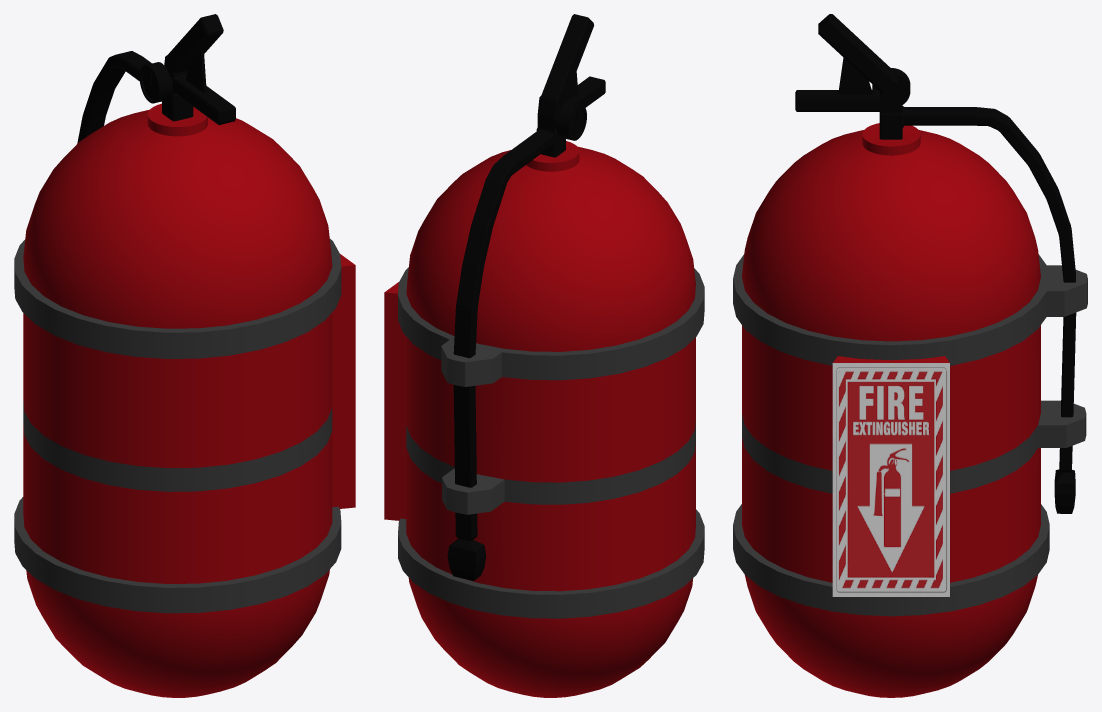
Rendered from FireExt.fbx.
3 views of the same model, side by side, from view 1: azimuth 30°, elevation 25°; view 2: azimuth 150°, elevation 25°; view 3: azimuth 270°, elevation 25° (orthographic). The views are drawn at different scales.
Parts seen in each view (by area): view 1: Cylinder, Sphere.001, Sphere, Cube, Cylinder.001; view 2: Cylinder, Sphere.001, Sphere, Cube, Cylinder.001; view 3: Cylinder, Sphere.001, Sphere, Cube.
Boxes of the visible parts, x1,y1,x2,y2 form: Cylinder: [14, 238, 355, 613]; Sphere.001: [23, 103, 332, 328]; Sphere: [26, 569, 329, 697]; Cube: [77, 14, 235, 143]; Cylinder.001: [139, 62, 171, 103]; Cylinder: [384, 267, 704, 618]; Sphere.001: [406, 141, 695, 351]; Sphere: [408, 577, 693, 697]; Cube: [447, 14, 605, 580]; Cylinder.001: [556, 102, 586, 140]; Cylinder: [733, 254, 1087, 616]; Sphere.001: [742, 123, 1040, 341]; Sphere: [745, 575, 1037, 697]; Cube: [795, 14, 1076, 513].
Size of the model in its own units: 216 by 492 by 237.
Materials: 7 (1 with a texture image).
